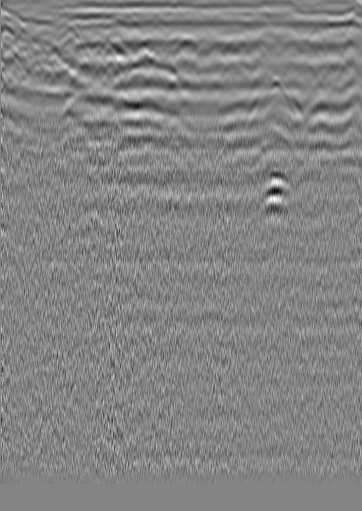가스: (263, 166, 297, 203)
상수: (0, 25, 20, 45)
오수: (303, 25, 323, 45)
우수: (176, 34, 196, 54)
